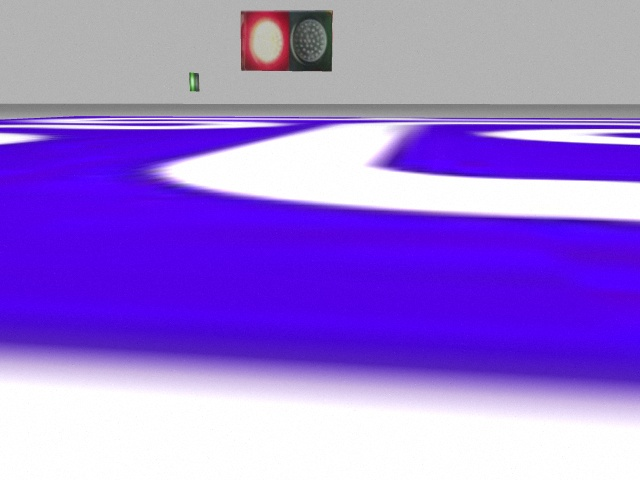red: (241, 10, 290, 69)
